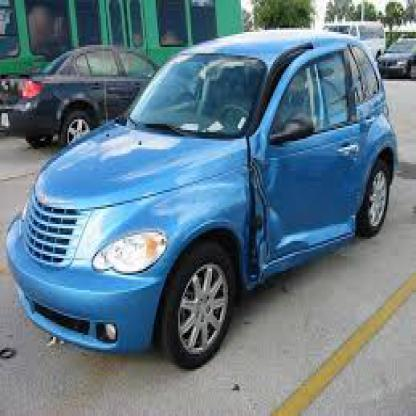dent: (242, 150, 271, 268)
